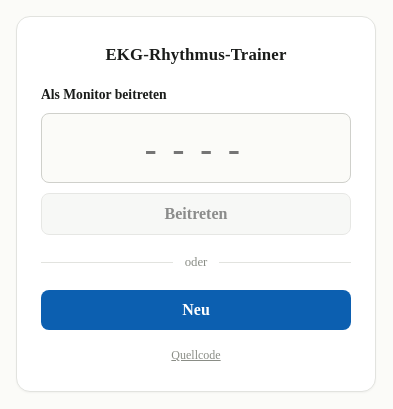
Test case: StartCard › the code field keeps only up to four digits
In the field named "code": (196, 148) left=41, top=113, right=351, bottom=183, type "12ab3456789"
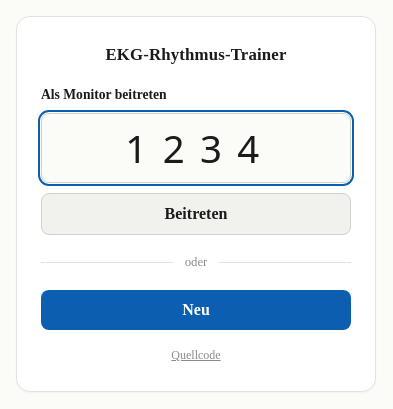
Expected: the field named "code" holds "1234", left=41, top=113, right=351, bottom=183
